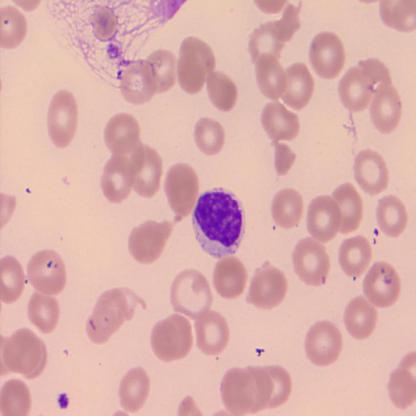Metamyelocyte: (188, 185, 248, 261)
